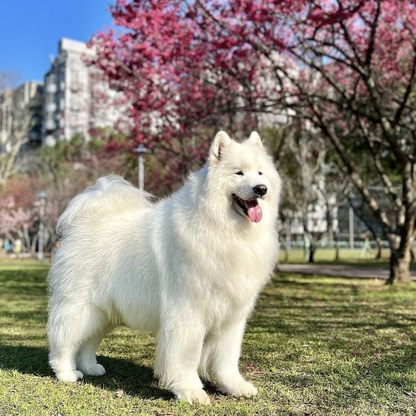samoyed: (42, 128, 285, 408)
